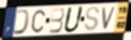B: (48, 7, 65, 34)
C: (31, 9, 47, 34)
D: (12, 8, 31, 35)
S: (83, 6, 101, 33)
U: (62, 6, 85, 34)
V: (101, 6, 118, 31)
